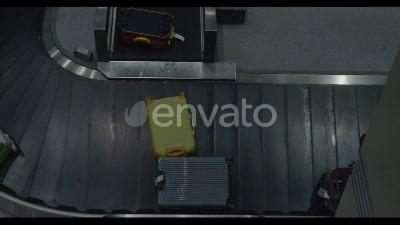baggage: (154, 151, 240, 212), (143, 90, 200, 156), (115, 9, 189, 56)
